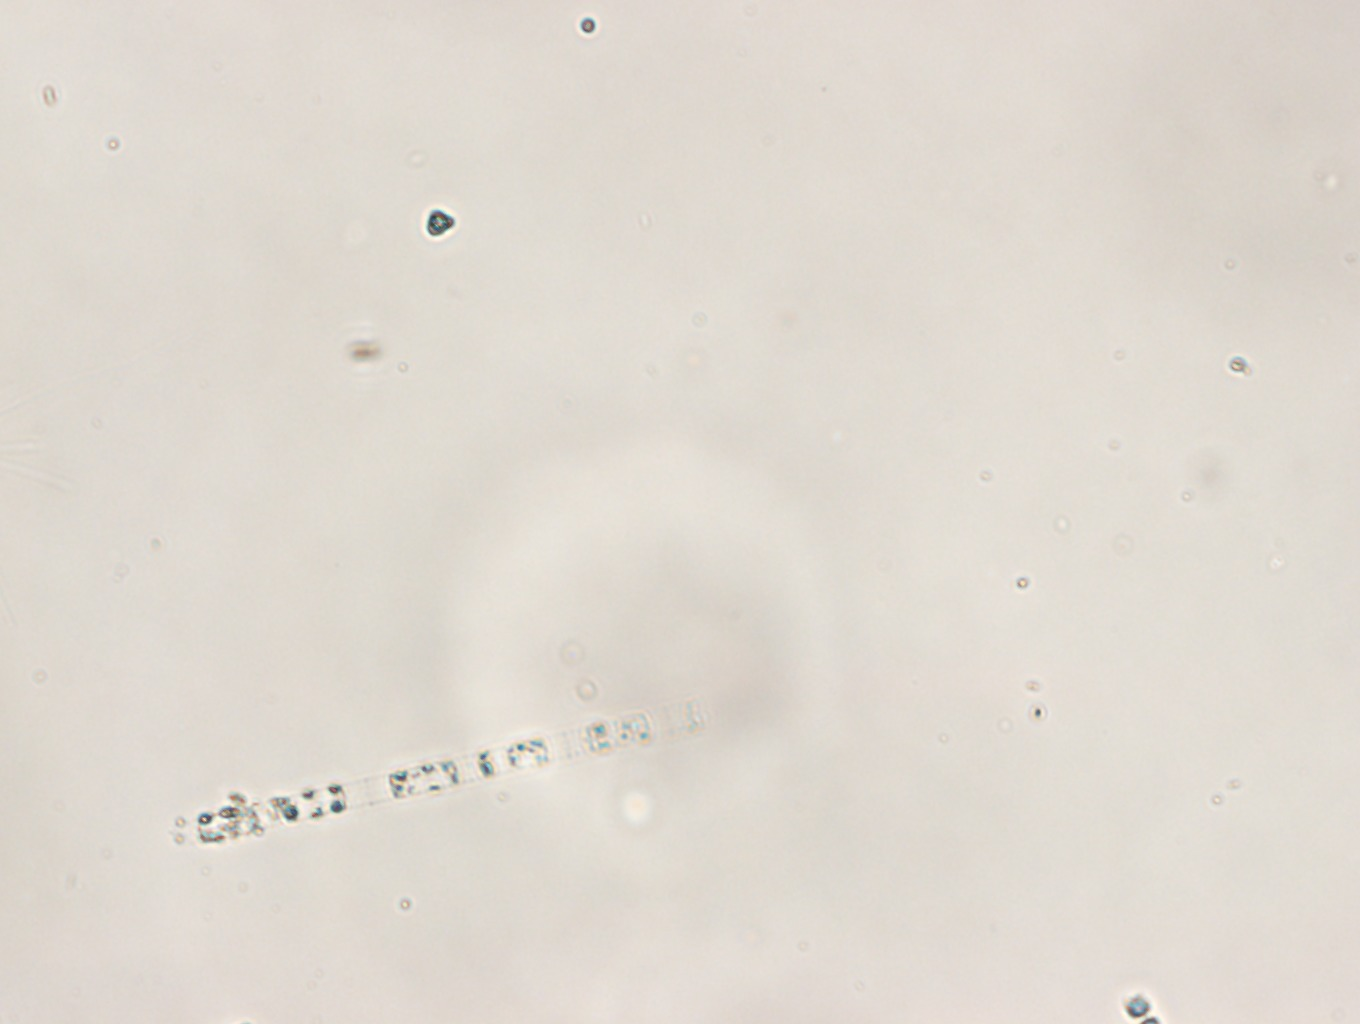skeletonema: (167, 700, 711, 856)
